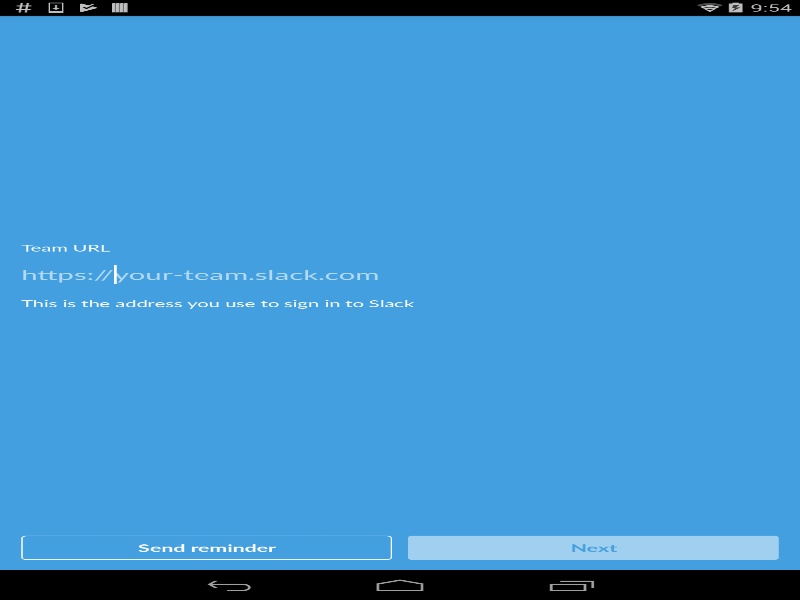Input: (113, 259, 248, 289)
